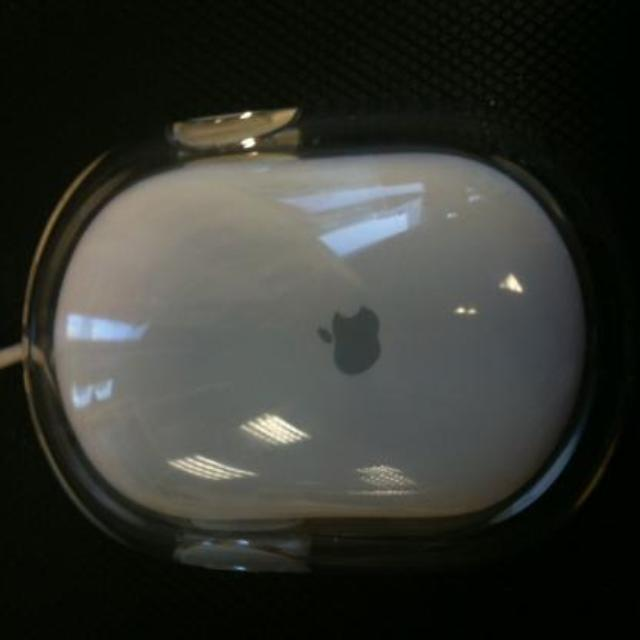Computer-Mouse: (24, 91, 598, 587)
